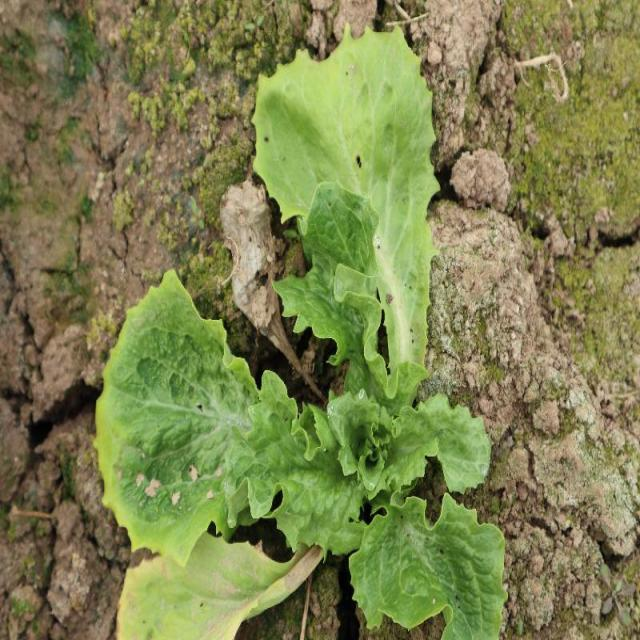crop: (94, 24, 511, 640)
